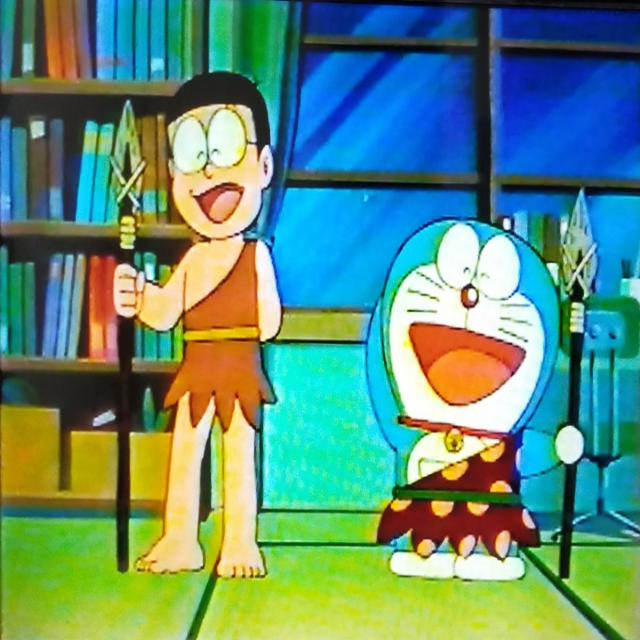doraemon: (380, 210, 563, 462)
nobita: (157, 69, 279, 252)
